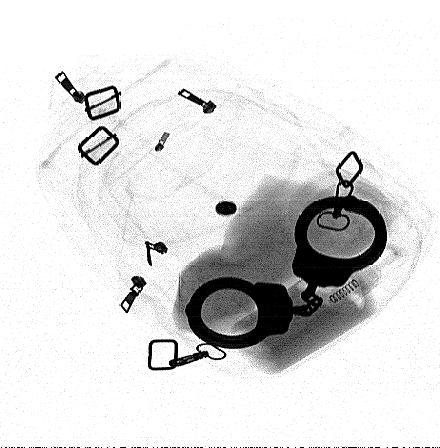HandCuffs: (185, 194, 388, 350)
